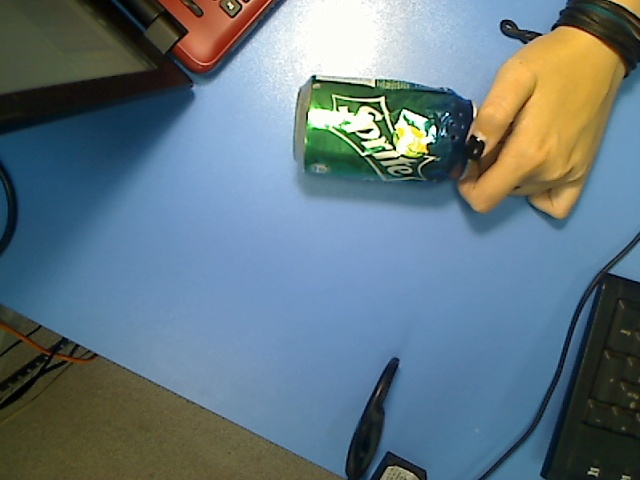can: (289, 72, 479, 188)
